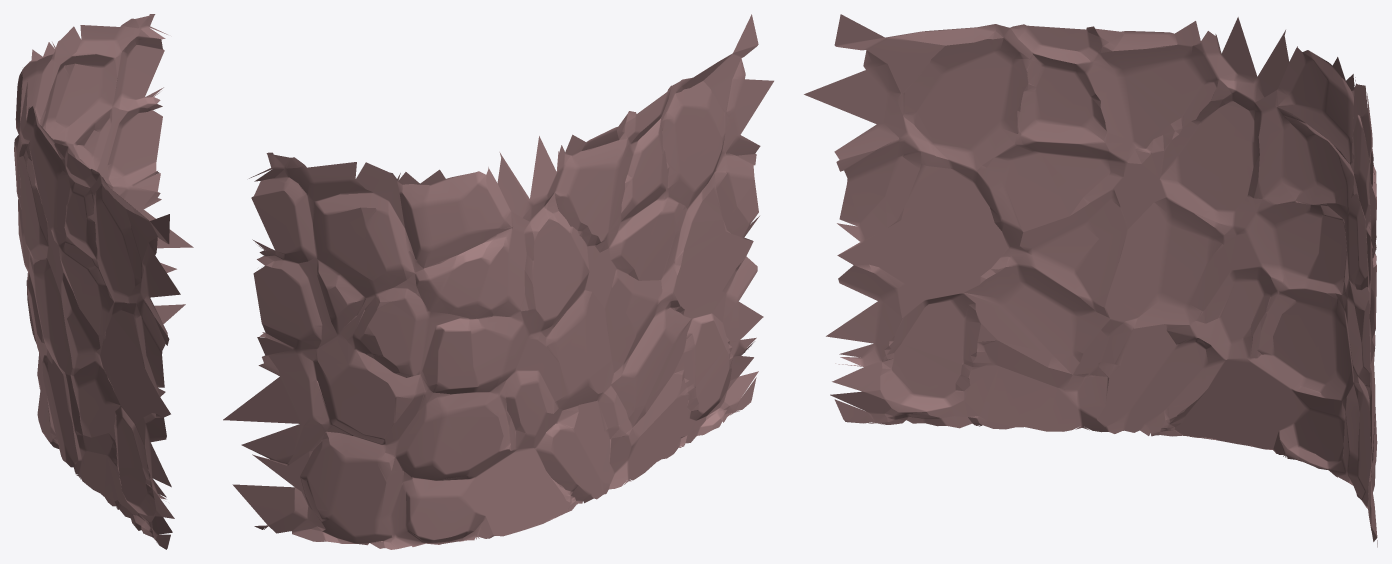
Rendered from plateau.fbx_Rock_Plateau_043LODs.fbx.
The picture shows the model from 3 angles, left to right: view 1: azimuth 30°, elevation 25°; view 2: azimuth 150°, elevation 25°; view 3: azimuth 270°, elevation 25°; orthographic projection. The views are drawn at different scales.
Visible parts, largest first — view 1: Rock Plateau.043_LOD0; view 2: Rock Plateau.043_LOD0; view 3: Rock Plateau.043_LOD0.
Boxes of the visible parts, <box> form: Rock Plateau.043_LOD0: <box>14,14,193,549</box>; Rock Plateau.043_LOD0: <box>223,14,773,549</box>; Rock Plateau.043_LOD0: <box>804,14,1377,547</box>.
Size of what is drawn, in the model's own units: 3130 by 4194 by 5156.
